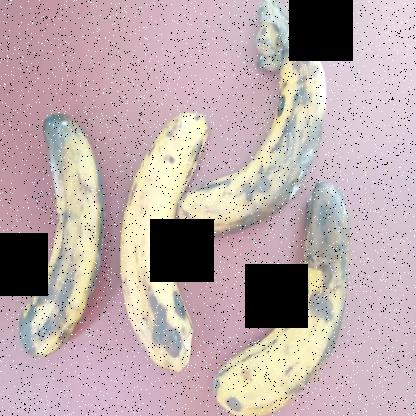overripe: (90, 70, 220, 410)
rotten: (213, 175, 365, 415), (195, 1, 332, 244), (9, 106, 109, 388)
